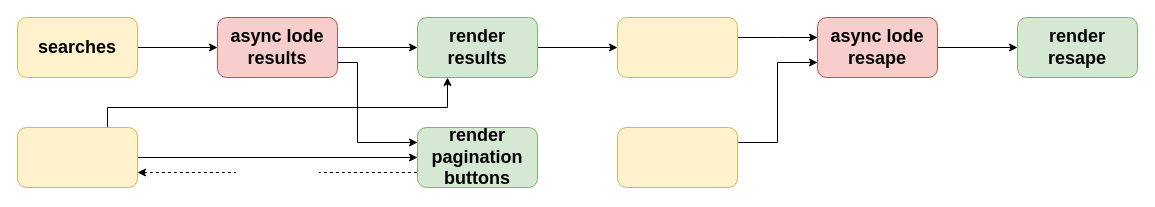
Image size: 1155x207. Some labels were removed from this diagram. The shapes that lost their labels are listed below. From the top down, each one's centre as x and y in pixels, then its label:
At [677,47]: "pick one".
At [77,157]: "user click pagination".
At [677,157]: "page lode with recipe ID".
